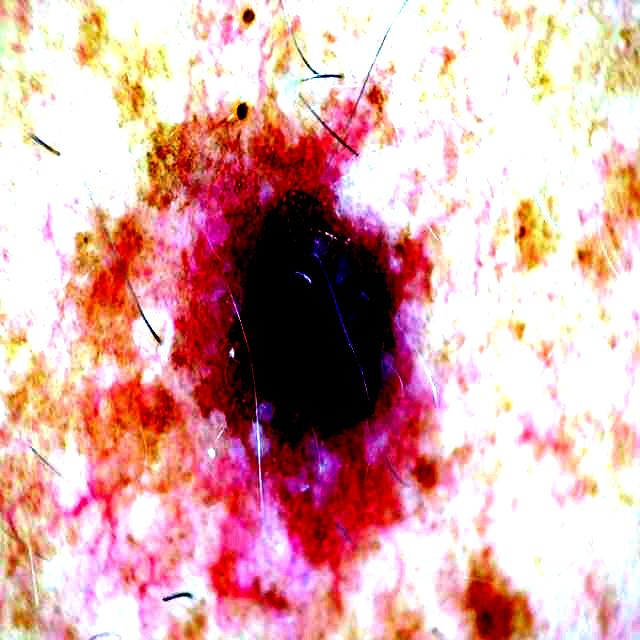VASC: (242, 195, 390, 416)
